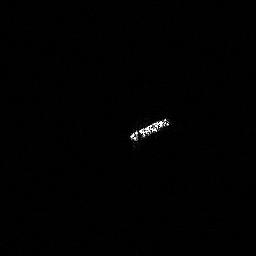ship: (129, 114, 173, 147)
